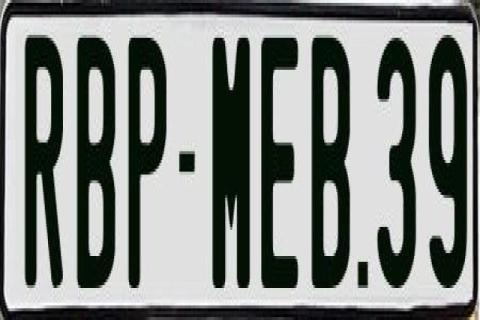0: (377, 38, 417, 291), (427, 35, 462, 297)
B: (75, 32, 118, 300), (310, 32, 352, 294)
E: (260, 29, 301, 279)
M: (210, 38, 250, 291)
P: (124, 38, 164, 297)
R: (22, 32, 64, 294)
